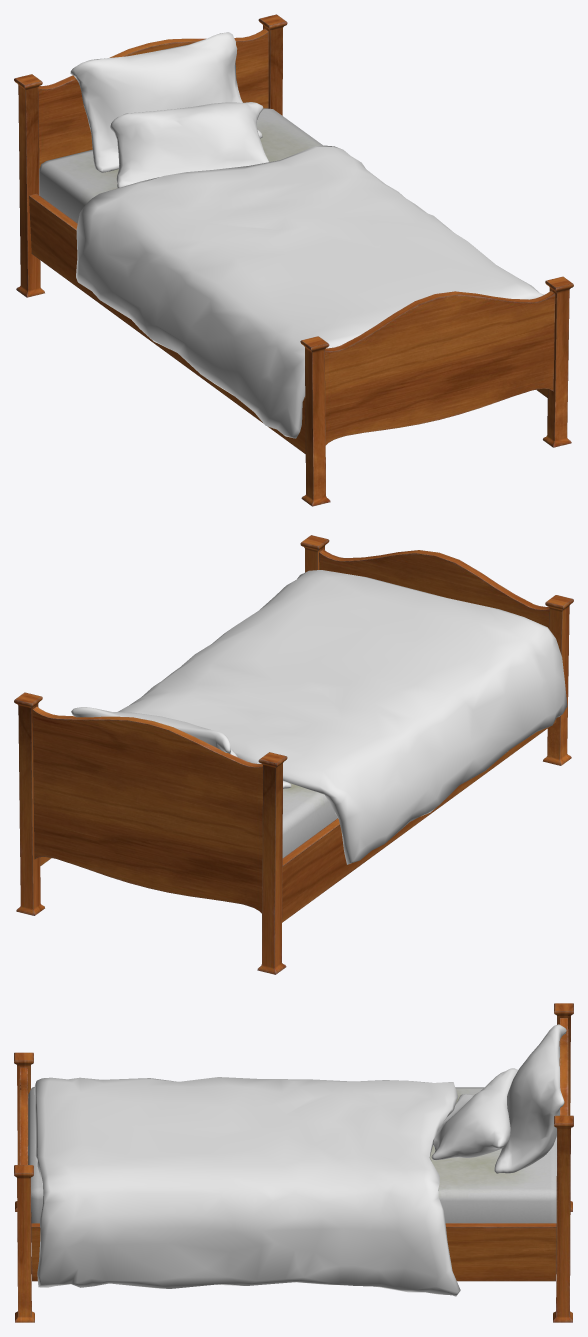
The model's file is bed.fbx.
The picture shows the model from 3 angles, top to bottom: view 1: azimuth 30°, elevation 25°; view 2: azimuth 150°, elevation 25°; view 3: azimuth 270°, elevation 25°; orthographic projection. The views are drawn at different scales.
Parts seen in each view (by area): view 1: Cover_low, Structure3_low, Structure1_low.001, Pillow1_low, Pillow2_low, Bed_low, Structure2_low; view 2: Cover_low, Structure3_low, Structure1_low.001, Structure2_low, Bed_low, Pillow1_low; view 3: Cover_low, Bed_low, Structure1_low.001, Structure2_low, Pillow1_low, Pillow2_low, Structure3_low.
Part boxes in pixels (box(x1,y1,x2,y2)): Cover_low: box(76, 145, 543, 438); Structure3_low: box(38, 28, 555, 445); Structure1_low.001: box(14, 14, 573, 506); Pillow1_low: box(70, 32, 262, 172); Pillow2_low: box(110, 102, 268, 187); Bed_low: box(39, 108, 323, 223); Structure2_low: box(29, 193, 547, 453); Cover_low: box(118, 570, 567, 864); Structure3_low: box(32, 549, 549, 913); Structure1_low.001: box(14, 535, 573, 974); Structure2_low: box(40, 719, 556, 922); Bed_low: box(282, 782, 337, 857); Pillow1_low: box(71, 707, 230, 753); Cover_low: box(34, 1077, 460, 1296); Bed_low: box(28, 1087, 556, 1223); Structure1_low.001: box(14, 1003, 573, 1322); Structure2_low: box(31, 1223, 556, 1281); Pillow1_low: box(494, 1024, 566, 1173); Pillow2_low: box(431, 1068, 517, 1160); Structure3_low: box(19, 1018, 568, 1164).
Bounding box in the file's own units: 115 × 82.58 × 202.
3 materials, 2 textured.
